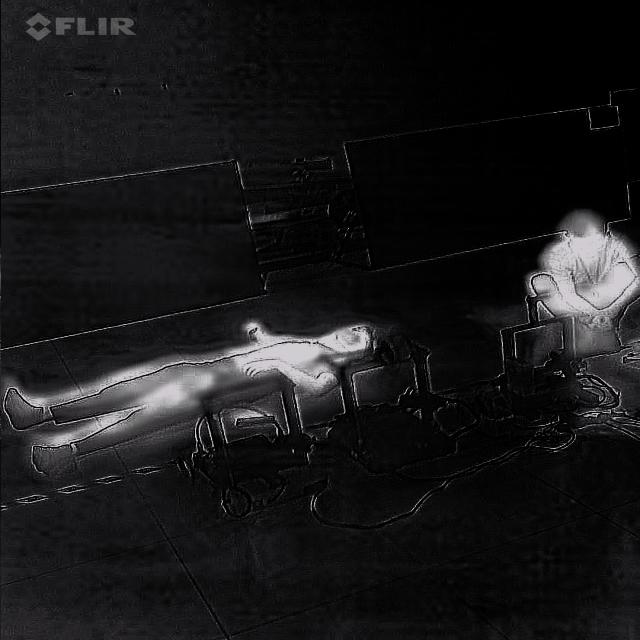Victim: (0, 316, 384, 482), (520, 205, 639, 352)
